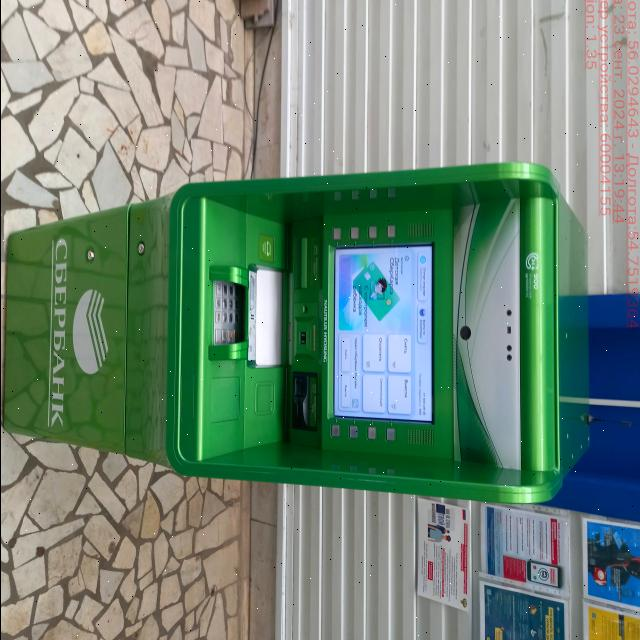bank: (0, 162, 590, 506)
